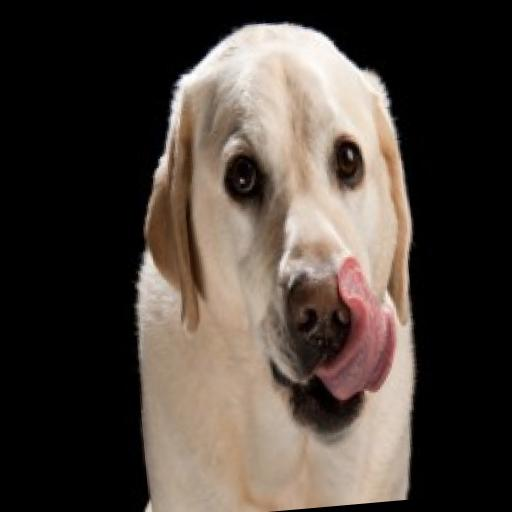dog: (77, 2, 446, 512)
